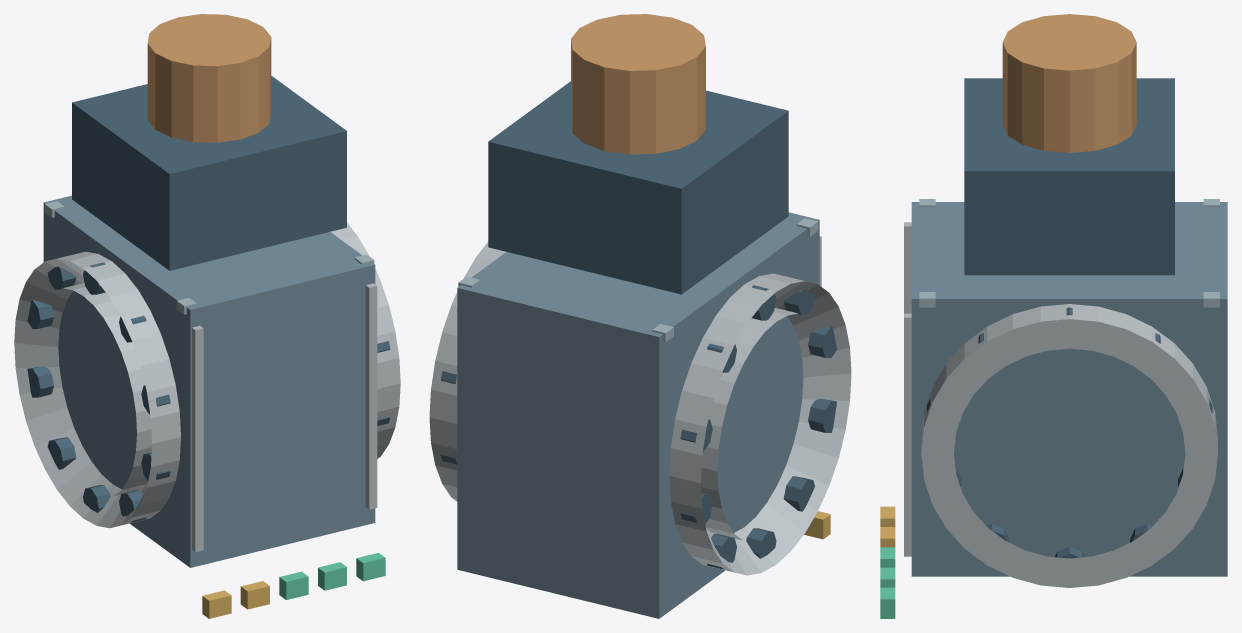
File: 28_L72_VacuumIsolationValve.glb
3 renders of one model, left to right at view 1: azimuth 30°, elevation 25°; view 2: azimuth 150°, elevation 25°; view 3: azimuth 270°, elevation 25°, orthographic. The views are drawn at different scales.
Parts seen in each view (by area): view 1: VacuumIsolationValve_Part_000, VacuumIsolationValve_Part_029, VacuumIsolationValve_Part_007, VacuumIsolationValve_Part_030, VacuumIsolationValve_Part_018, VacuumIsolationValve_Part_006, VacuumIsolationValve_Part_005, VacuumIsolationValve_Part_031, VacuumIsolationValve_Part_032, VacuumIsolationValve_Part_033, VacuumIsolationValve_Part_035, VacuumIsolationValve_Part_034 (+4 smaller); view 2: VacuumIsolationValve_Part_000, VacuumIsolationValve_Part_029, VacuumIsolationValve_Part_007, VacuumIsolationValve_Part_030, VacuumIsolationValve_Part_018, VacuumIsolationValve_Part_011, VacuumIsolationValve_Part_012, VacuumIsolationValve_Part_010, VacuumIsolationValve_Part_013, VacuumIsolationValve_Part_009; view 3: VacuumIsolationValve_Part_000, VacuumIsolationValve_Part_029, VacuumIsolationValve_Part_018, VacuumIsolationValve_Part_030, VacuumIsolationValve_Part_006, VacuumIsolationValve_Part_005, VacuumIsolationValve_Part_035.
Boxes of the visible parts, x1,y1,x2,y2 form: VacuumIsolationValve_Part_000: (43,195,375,567); VacuumIsolationValve_Part_029: (72,76,346,270); VacuumIsolationValve_Part_007: (14,251,180,528); VacuumIsolationValve_Part_030: (147,14,271,142); VacuumIsolationValve_Part_018: (330,223,400,458); VacuumIsolationValve_Part_006: (365,283,377,509); VacuumIsolationValve_Part_005: (192,325,203,551); VacuumIsolationValve_Part_031: (202,590,231,618); VacuumIsolationValve_Part_032: (240,581,269,609); VacuumIsolationValve_Part_033: (279,571,308,599); VacuumIsolationValve_Part_035: (356,552,385,581); VacuumIsolationValve_Part_034: (318,562,346,590); VacuumIsolationValve_Part_000: (457,212,819,618); VacuumIsolationValve_Part_029: (488,81,788,294); VacuumIsolationValve_Part_007: (669,273,851,575); VacuumIsolationValve_Part_030: (571,14,705,154); VacuumIsolationValve_Part_018: (429,242,506,501); VacuumIsolationValve_Part_011: (808,398,836,432); VacuumIsolationValve_Part_012: (783,476,814,511); VacuumIsolationValve_Part_010: (808,326,836,357); VacuumIsolationValve_Part_013: (746,528,776,558); VacuumIsolationValve_Part_009: (783,289,814,314); VacuumIsolationValve_Part_000: (911,202,1227,576); VacuumIsolationValve_Part_029: (964,78,1174,275); VacuumIsolationValve_Part_018: (921,304,1217,587); VacuumIsolationValve_Part_030: (1002,14,1136,152); VacuumIsolationValve_Part_006: (904,313,911,556); VacuumIsolationValve_Part_005: (904,222,911,313); VacuumIsolationValve_Part_035: (880,587,895,618).
Bounding box in the file's own units: 0.645 × 1.22 × 0.7255.
